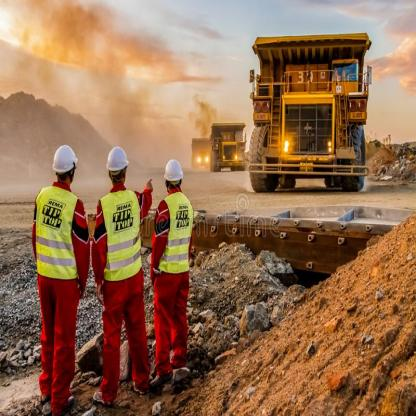dump_truck: (243, 22, 386, 190), (207, 116, 244, 176), (186, 129, 210, 168)
person: (26, 141, 90, 410), (91, 141, 151, 404), (153, 150, 197, 392)
